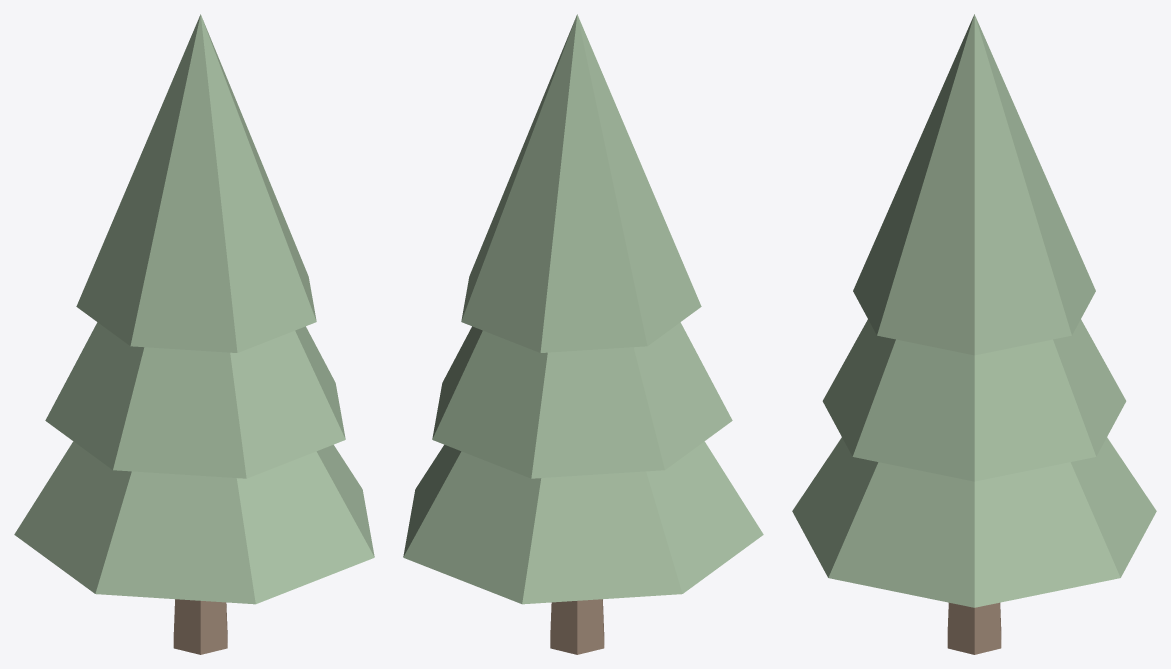
Rendered from tree-spruce.glb.
3 views of the same model, side by side, from view 1: azimuth 30°, elevation 25°; view 2: azimuth 150°, elevation 25°; view 3: azimuth 270°, elevation 25° (orthographic).
Parts seen in each view (by area): view 1: tree-spruce; view 2: tree-spruce; view 3: tree-spruce.
Part boxes in pixels (bbox=[...]): tree-spruce: bbox=[14, 14, 374, 654]; tree-spruce: bbox=[403, 14, 763, 654]; tree-spruce: bbox=[792, 14, 1156, 654].
Bounding box in the file's own units: 4.62 × 9 × 4.74.
